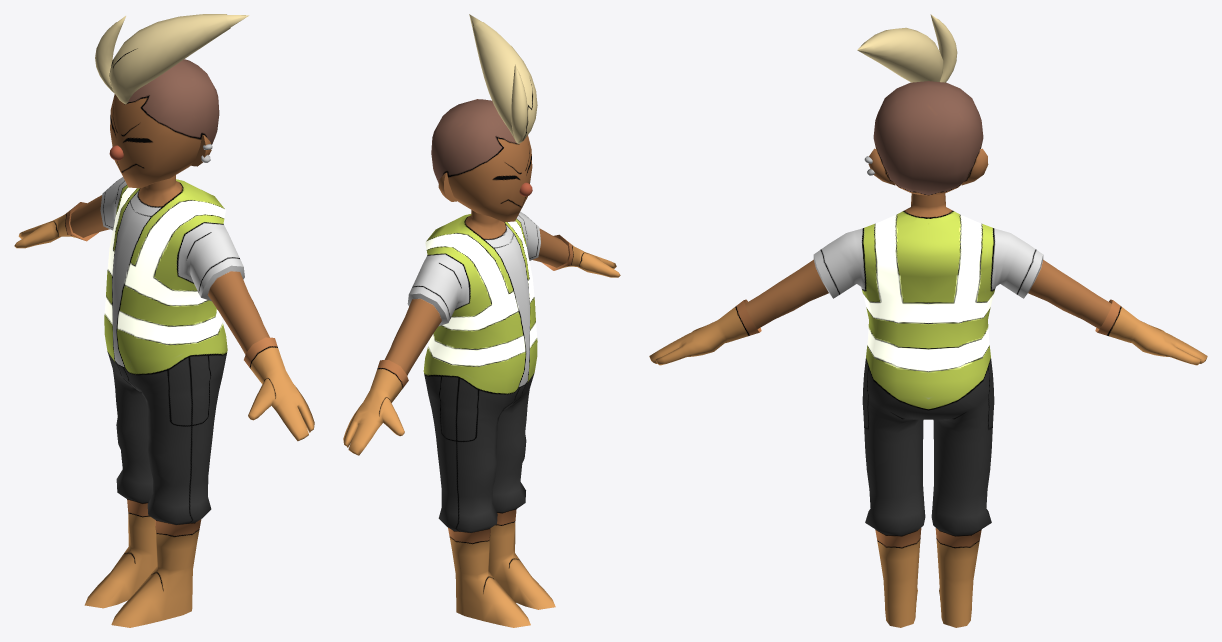
File: Axel_final.fbx
3 renders of one model, left to right at view 1: azimuth 30°, elevation 25°; view 2: azimuth 150°, elevation 25°; view 3: azimuth 270°, elevation 25°, orthographic. The views are drawn at different scales.
Parts seen in each view (by area): view 1: Sphere.013; view 2: Sphere.013; view 3: Sphere.013.
Boxes of the visible parts, x1,y1,x2,y2 form: Sphere.013: (14,14,314,627); Sphere.013: (343,14,620,627); Sphere.013: (649,14,1207,627).
Bounding box in the file's own units: 773 × 188 × 910.
